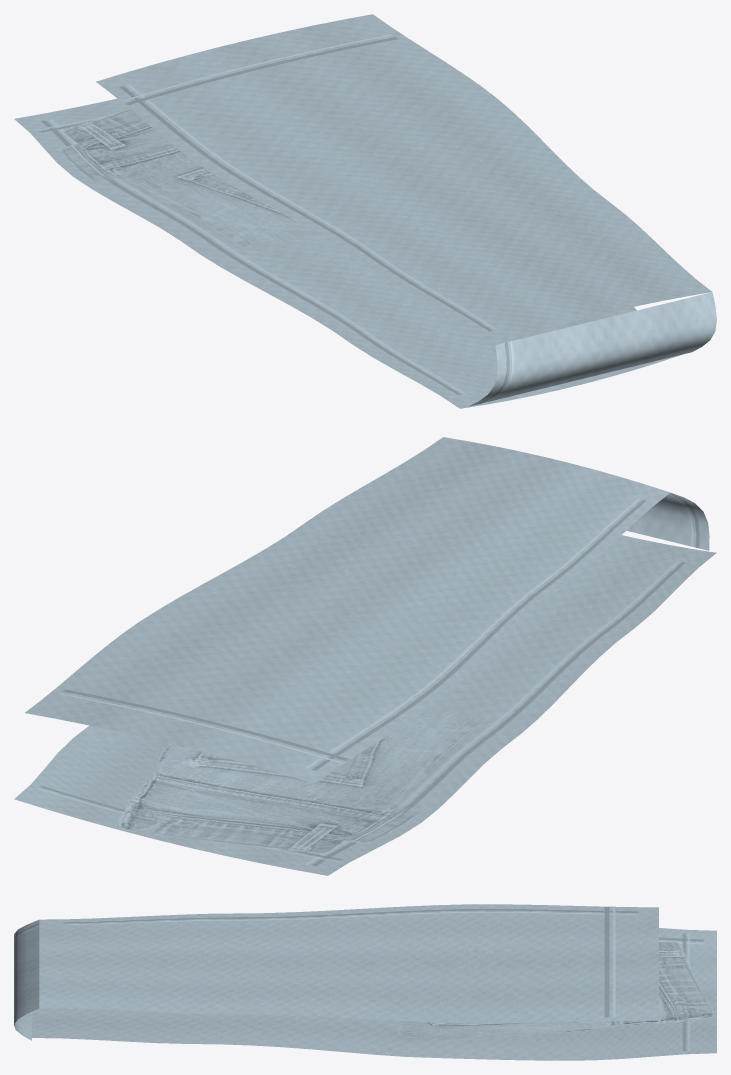
The model's file is jean-colgado.glb.
The picture shows the model from 3 angles, top to bottom: view 1: azimuth 30°, elevation 25°; view 2: azimuth 150°, elevation 25°; view 3: azimuth 270°, elevation 25°; orthographic projection. The views are drawn at different scales.
Parts seen in each view (by area): view 1: JEAN_PLEGADO_SOBRE_PERCHA_WEB_V2; view 2: JEAN_PLEGADO_SOBRE_PERCHA_WEB_V2; view 3: JEAN_PLEGADO_SOBRE_PERCHA_WEB_V2.
Part boxes in pixels (box(x1,y1,x2,y2)): JEAN_PLEGADO_SOBRE_PERCHA_WEB_V2: box(14, 14, 716, 408); JEAN_PLEGADO_SOBRE_PERCHA_WEB_V2: box(14, 437, 716, 875); JEAN_PLEGADO_SOBRE_PERCHA_WEB_V2: box(14, 904, 716, 1060).
Bounding box in the file's own units: 0.463 × 0.0778 × 0.97.
1 material, 1 textured.
